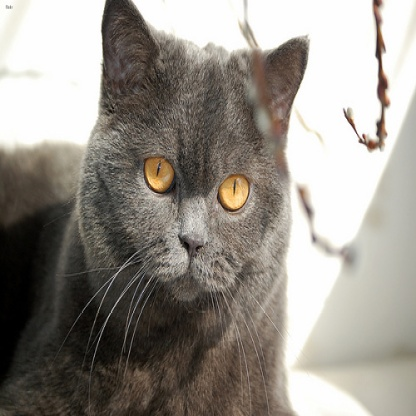british_shorthair: (1, 1, 308, 415)
